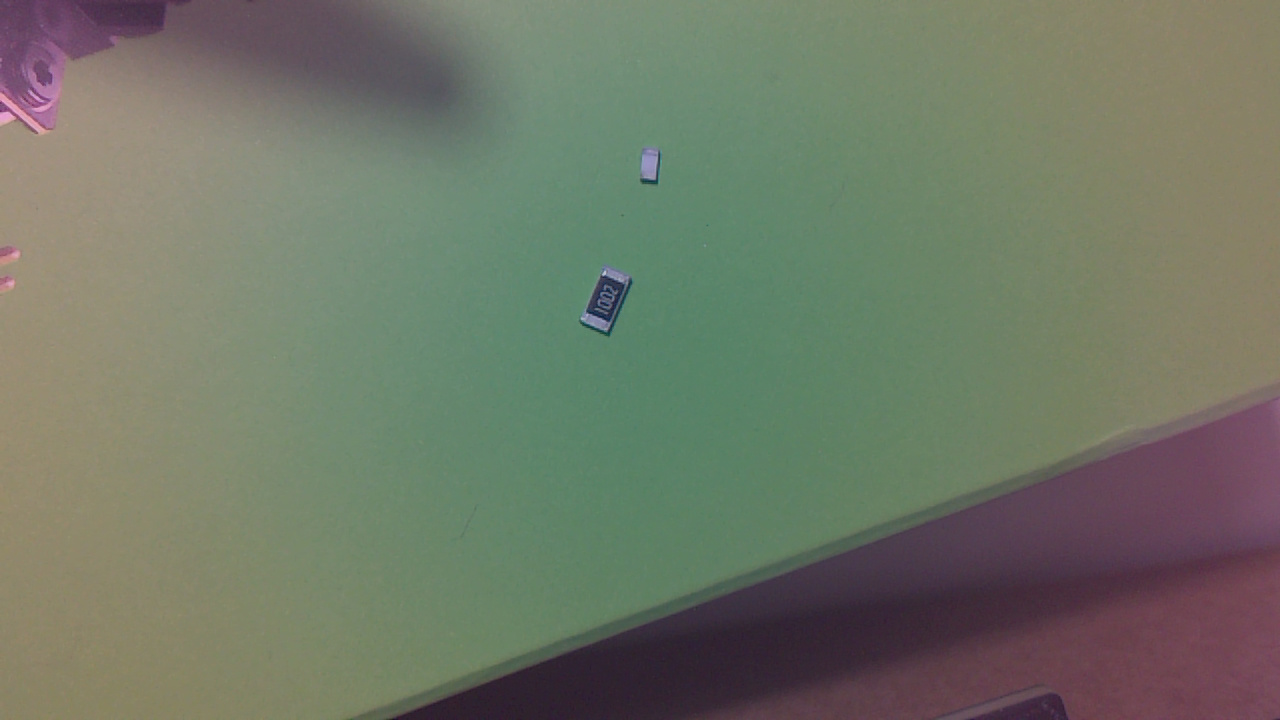Resistor: (586, 272, 640, 339)
